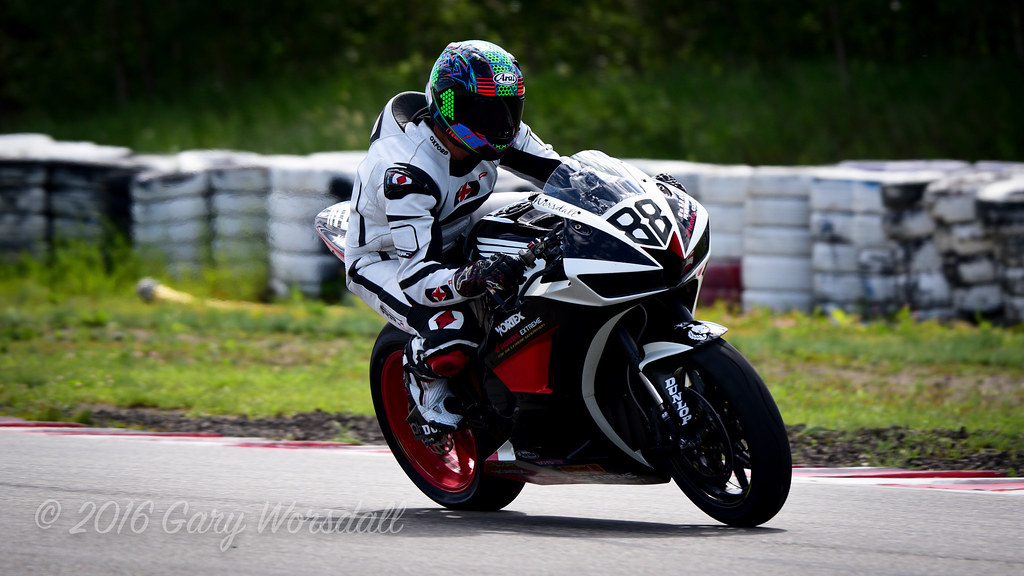helmet: (426, 41, 530, 154)
